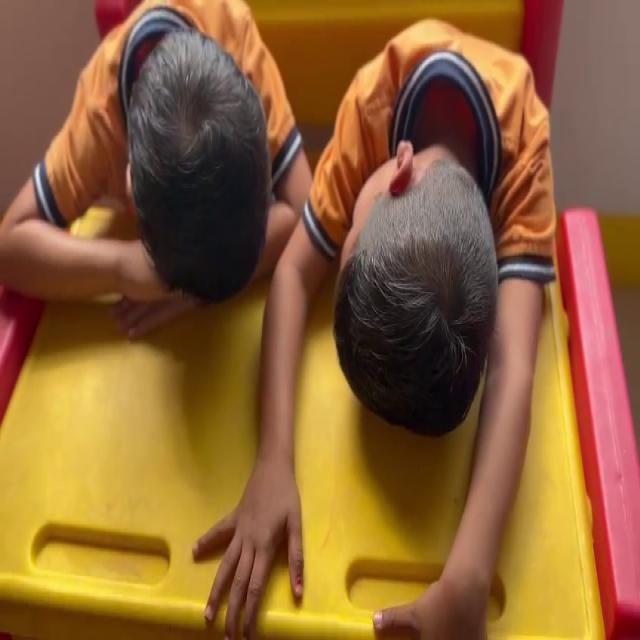child: (297, 25, 562, 598), (8, 20, 274, 348)
